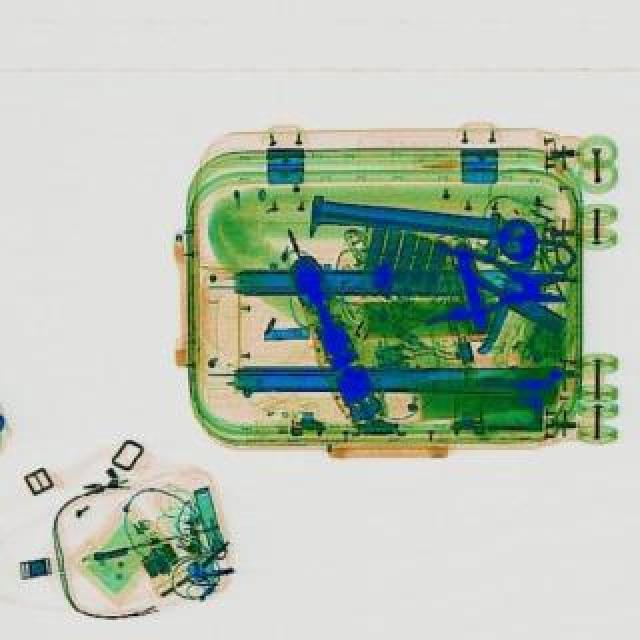wrench: (424, 240, 572, 330)
